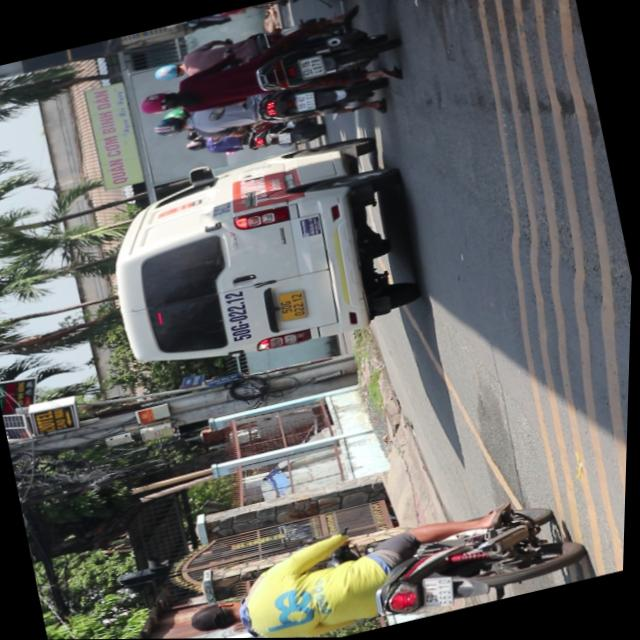helmet: (134, 89, 179, 120), (149, 114, 188, 141)
licenseplate: (178, 483, 590, 639), (124, 2, 400, 131), (139, 65, 389, 164)
motorcyclist: (187, 595, 250, 639)
nohelmet: (423, 575, 459, 611), (297, 57, 323, 80), (294, 92, 316, 113)
